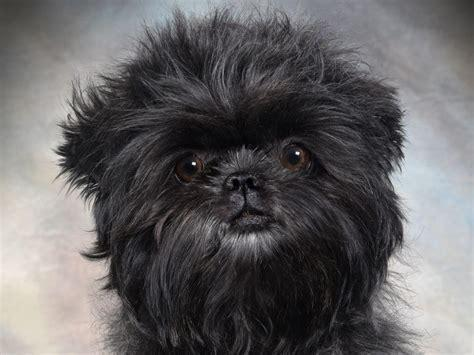dog: (62, 15, 400, 355)
